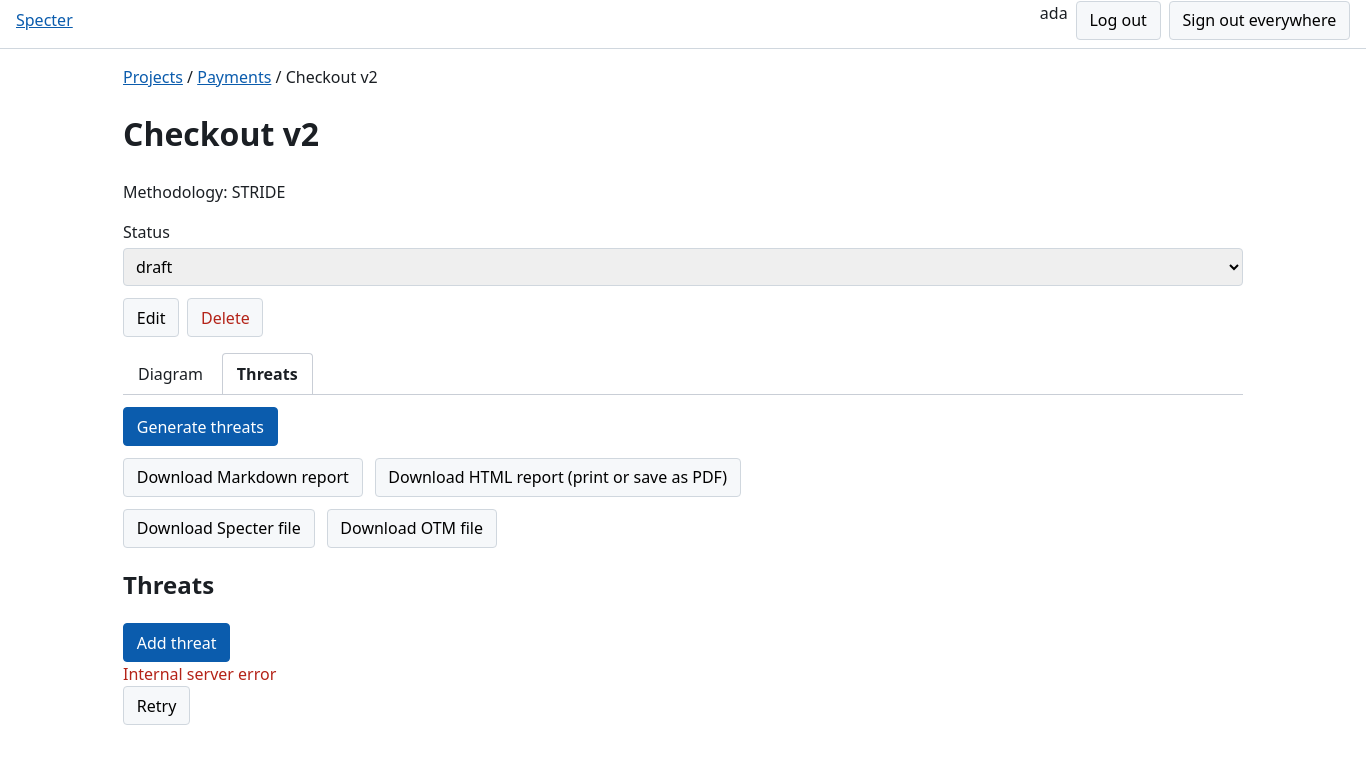
Scenario: the threat model page’s threats › shows the server’s message and Retry when the threats cannot be loaded
Check: the text "Internal server error" is shown, box [123,663,276,685]
What coordinates should you click on to do the following:
click the button "Retry"
I would click on:
 (157, 706)
Its box is [123,686,190,725].
(page scrolled)
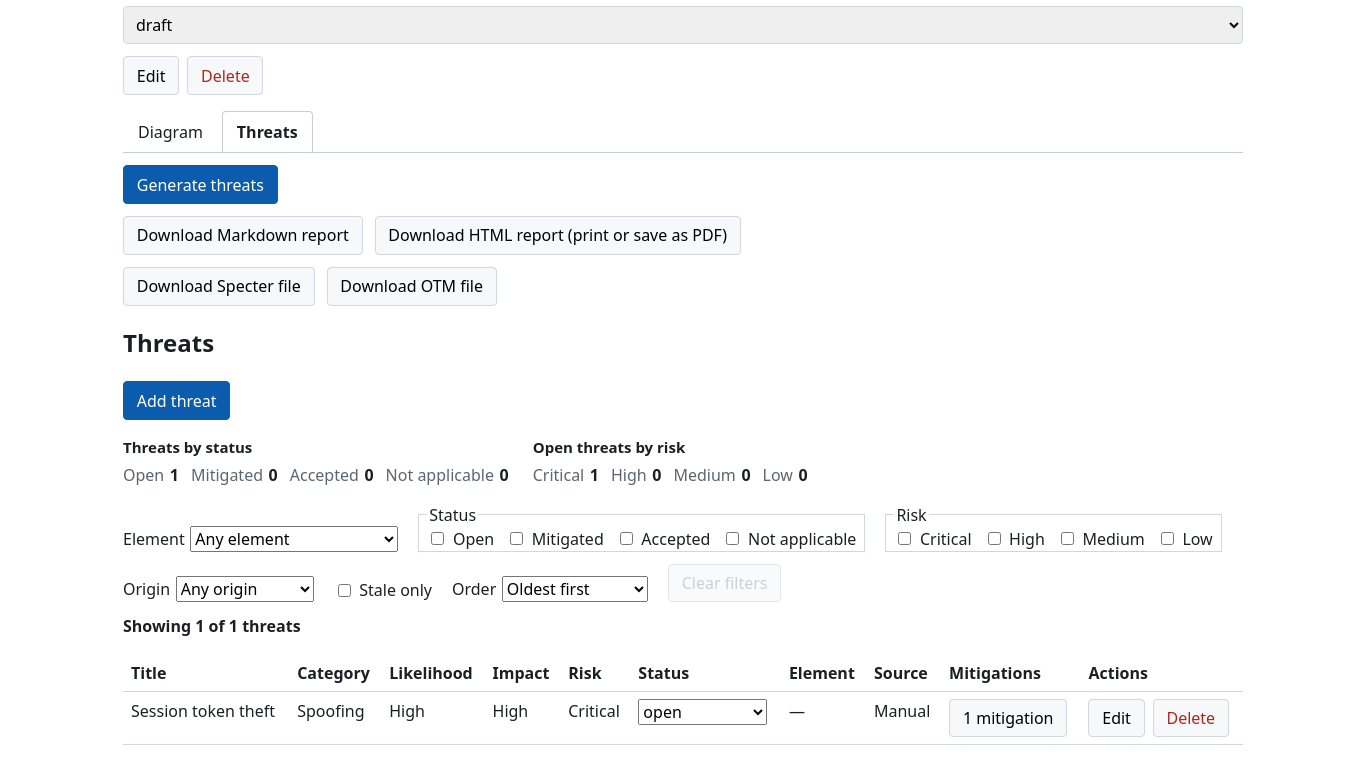
Check: the text "Session token theft" is shown, box [123,692,289,744]
